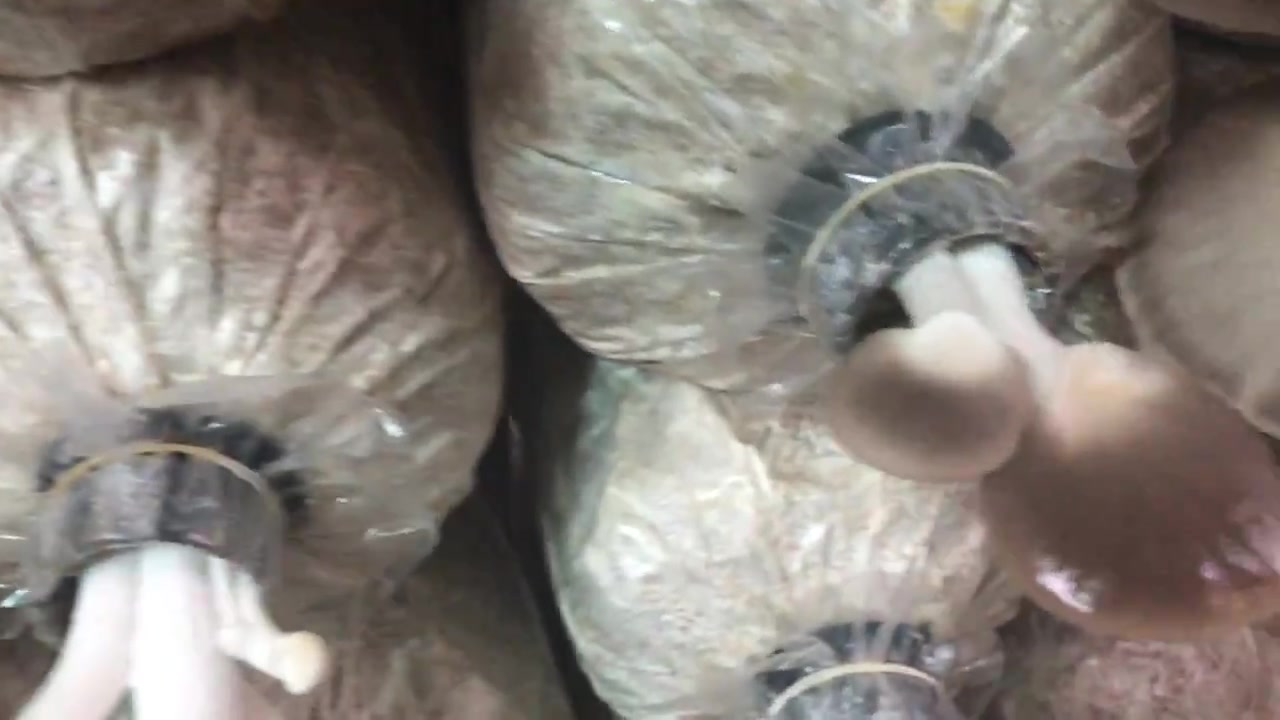nam: (823, 153, 1280, 650)
